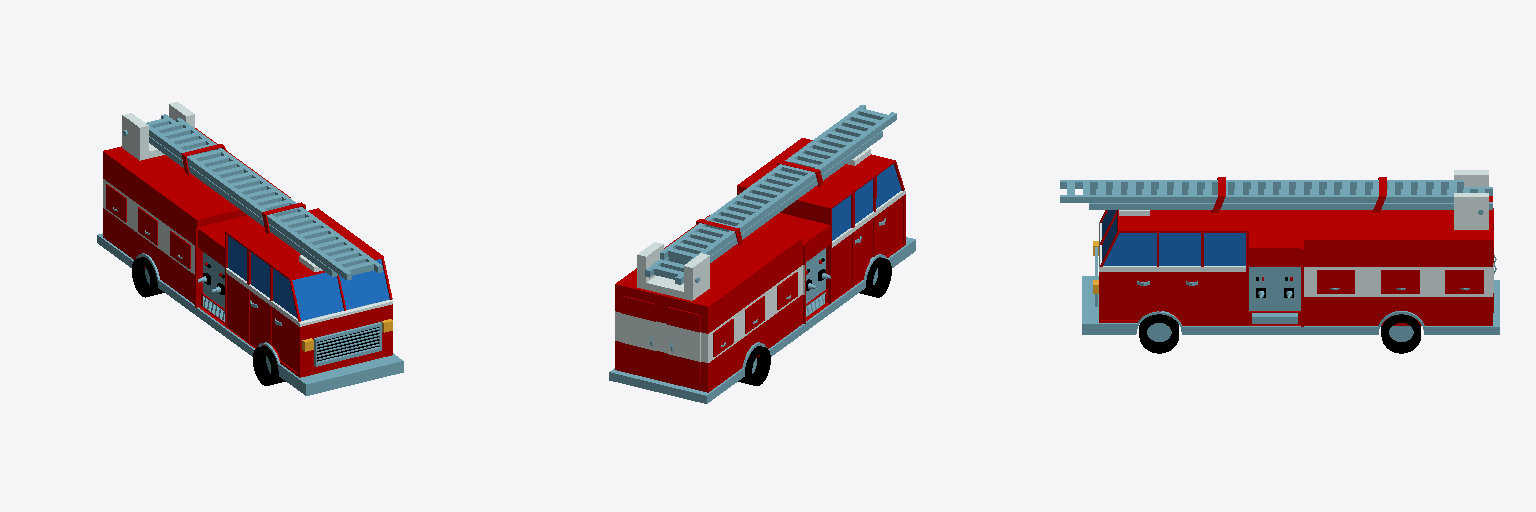
Rendered from fireTruck.obj.
The picture shows the model from 3 angles: view 1: azimuth 30°, elevation 25°; view 2: azimuth 150°, elevation 25°; view 3: azimuth 270°, elevation 25°; orthographic projection.
Parts seen in each view (by area): view 1: Plane.299, Plane.002; view 2: Plane.299, Plane.002; view 3: Plane.299, Plane.002.
Part boxes in pixels (x1,y1,x2,y2): Plane.299: (97, 102, 403, 395); Plane.002: (132, 257, 285, 385); Plane.299: (609, 105, 915, 403); Plane.002: (738, 257, 891, 385); Plane.299: (1060, 170, 1499, 334); Plane.002: (1139, 314, 1420, 353).
Bounding box in the file's own units: 2.4 × 3.06 × 8.54.